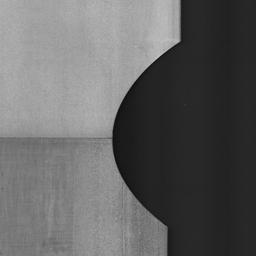Crescent gap: (112, 43, 178, 226)
